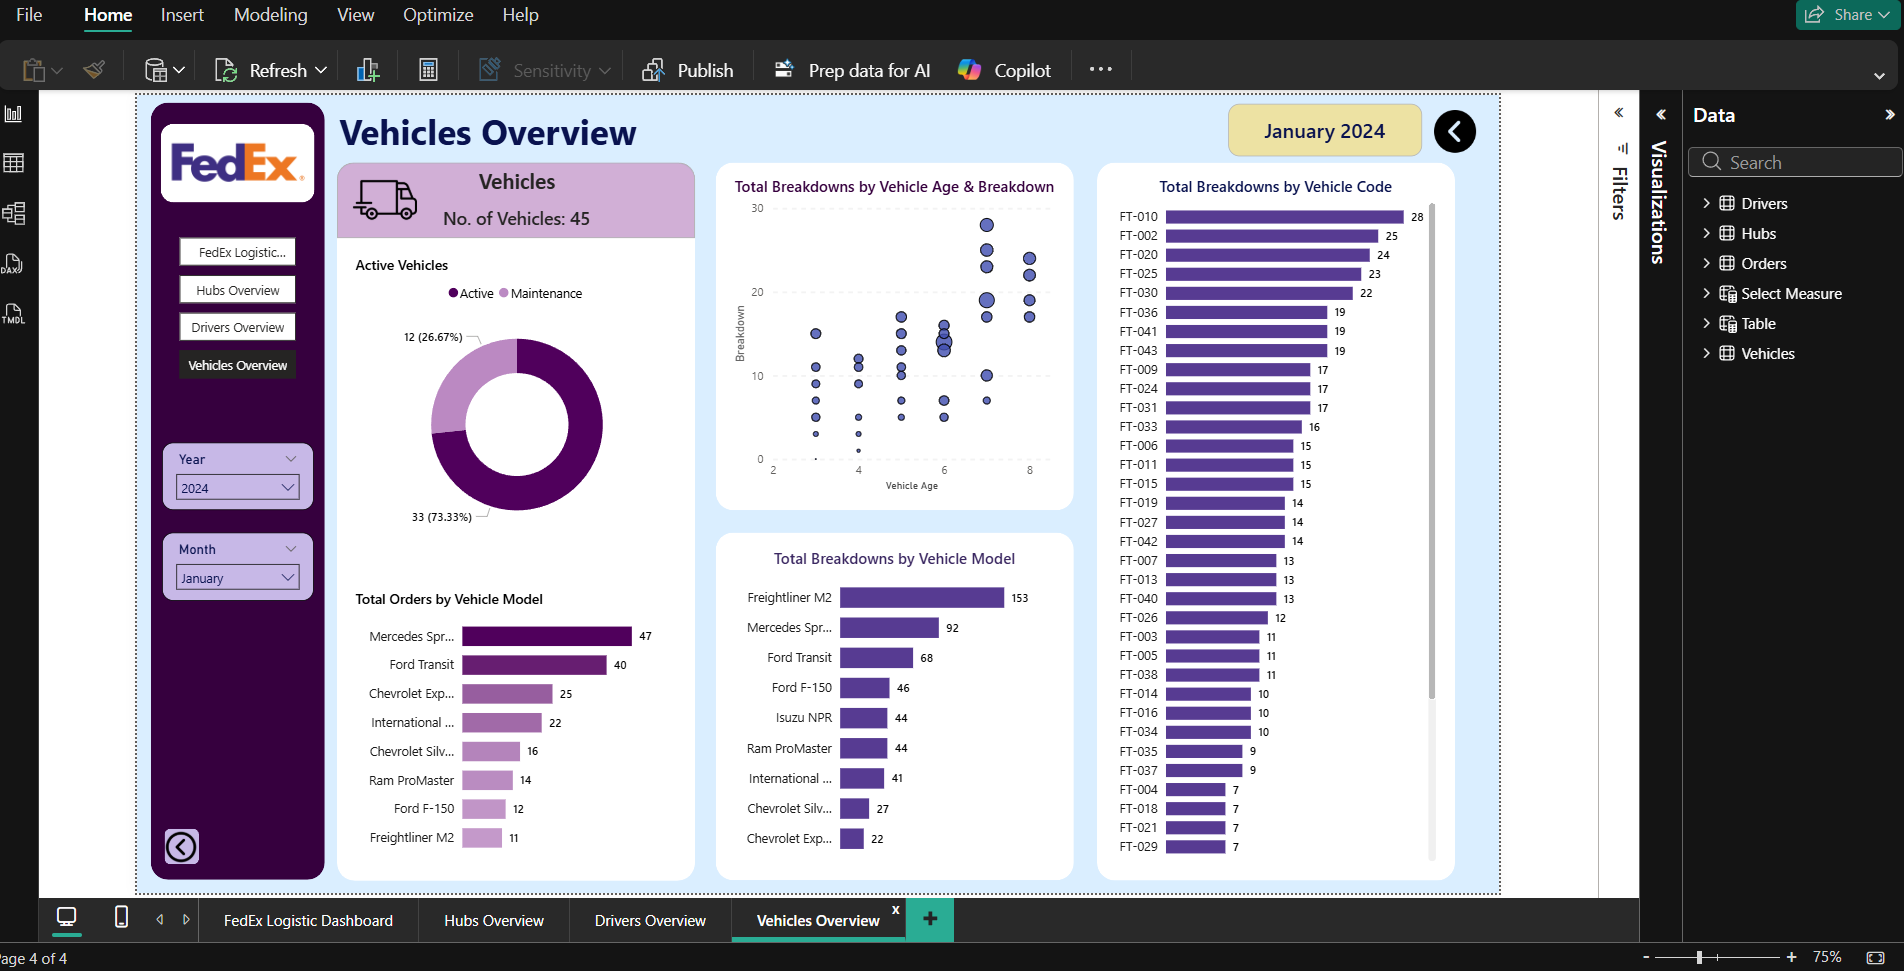

What the dashboard file says about the page in this screenshot:
{"tool":"powerbi","page":{"name":"Vehicles Overview","canvas":[1450,850],"ordinal":3},"visuals":[{"type":"shape","box":[15,8.6,185.2,827.5],"z":0},{"type":"textbox","box":[209.8,8.6,535.3,65.3],"z":1000},{"type":"slicer","fields":{"Values":["Table.Year"]},"box":[26.9,370.3,161.2,71.7],"z":2000},{"type":"slicer","fields":{"Values":["Table.Month"]},"box":[26.9,465.8,161.2,72.7],"z":3000},{"type":"shape","box":[213,72.7,381.2,763.4],"z":4000},{"type":"shape","box":[213,71.7,381.2,80.6],"z":5000},{"type":"textbox","box":[346.8,72.5,114.5,45.6],"z":6000},{"type":"cardVisual","fields":{"Data":["Vehicles.No. of Vehicles"]},"box":[274.8,111.5,257.9,35.5],"z":7000},{"type":"donutChart","title":"Active Vehicles","fields":{"Category":["Vehicles.Vehicle Status"],"Y":["CountNonNull(Vehicles.Vehicle ID)"]},"box":[226.9,170.2,354.3,311.5],"z":8000},{"type":"barChart","fields":{"Category":["Vehicles.Vehicle Model"],"Y":["Orders.Total Orders"]},"box":[226.9,525.5,354.3,293.6],"z":9000},{"type":"shape","box":[25.3,30.6,163.7,83.8],"z":10000},{"type":"cardVisual","fields":{"Data":["Orders.Year Month Title"]},"box":[1161.5,9,206,55.7],"z":11000},{"type":"image","box":[29.3,34.6,157,75.8],"z":12000},{"type":"image","box":[1367.9,16,70.5,45.2],"z":13000},{"type":"shape","box":[28.9,781.3,36.8,37.8],"z":14000},{"type":"image","box":[29.9,779.3,34.8,41.8],"z":15000},{"type":"shape","box":[616.1,71.7,381.2,370.3],"z":16000},{"type":"shape","box":[1022.2,71.7,381.2,764.4],"z":17000},{"type":"shape","box":[616.1,465.8,381.2,370.3],"z":18000},{"type":"scatterChart","title":"Total Breakdowns by Vehicle Age & Breakdown","fields":{"X":["Vehicles.Vehicle Age"],"Y":["Vehicles.Breakdown"],"Size":["Sum(Vehicles.Breakdown)1"]},"box":[631,85.6,351.3,342.4],"z":19000},{"type":"barChart","title":"Total Breakdowns by Vehicle Code","fields":{"Y":["Sum(Vehicles.Breakdown)"],"Category":["Vehicles.Vehicle Code"]},"box":[1037.1,85.6,351.3,735.5],"z":20000},{"type":"barChart","title":"Total Breakdowns by Vehicle Model","fields":{"Y":["Sum(Vehicles.Breakdown)"],"Category":["Vehicles.Vehicle Model"]},"box":[631,481.7,351.3,339.4],"z":21000},{"type":"pageNavigator","box":[44.8,152.3,124.4,152.3],"z":22000},{"type":"image","box":[227.5,74.5,73.2,74.5],"z":23000}]}

Visuals, with their boxes on the page's 1450x850 design canvas (x1, y1, x2, y2). These are canvas units, not pixel positions in the 1904x971 screenshot, which may show the page scaled, cropped or inside an application window:
shape: {"left": 15, "top": 9, "right": 200, "bottom": 836}
textbox: {"left": 210, "top": 9, "right": 745, "bottom": 74}
slicer - Table.Year: {"left": 27, "top": 370, "right": 188, "bottom": 442}
slicer - Table.Month: {"left": 27, "top": 466, "right": 188, "bottom": 538}
shape: {"left": 213, "top": 73, "right": 594, "bottom": 836}
shape: {"left": 213, "top": 72, "right": 594, "bottom": 152}
textbox: {"left": 347, "top": 72, "right": 461, "bottom": 118}
cardVisual - Vehicles.No. of Vehicles: {"left": 275, "top": 112, "right": 533, "bottom": 147}
"Active Vehicles" donutChart: {"left": 227, "top": 170, "right": 581, "bottom": 482}
barChart - Vehicles.Vehicle Model x Orders.Total Orders: {"left": 227, "top": 526, "right": 581, "bottom": 819}
shape: {"left": 25, "top": 31, "right": 189, "bottom": 114}
cardVisual - Orders.Year Month Title: {"left": 1162, "top": 9, "right": 1368, "bottom": 65}
image: {"left": 29, "top": 35, "right": 186, "bottom": 110}
image: {"left": 1368, "top": 16, "right": 1438, "bottom": 61}
shape: {"left": 29, "top": 781, "right": 66, "bottom": 819}
image: {"left": 30, "top": 779, "right": 65, "bottom": 821}
shape: {"left": 616, "top": 72, "right": 997, "bottom": 442}
shape: {"left": 1022, "top": 72, "right": 1403, "bottom": 836}
shape: {"left": 616, "top": 466, "right": 997, "bottom": 836}
"Total Breakdowns by Vehicle Age & Breakdown" scatterChart: {"left": 631, "top": 86, "right": 982, "bottom": 428}
"Total Breakdowns by Vehicle Code" barChart: {"left": 1037, "top": 86, "right": 1388, "bottom": 821}
"Total Breakdowns by Vehicle Model" barChart: {"left": 631, "top": 482, "right": 982, "bottom": 821}
pageNavigator: {"left": 45, "top": 152, "right": 169, "bottom": 305}
image: {"left": 228, "top": 74, "right": 301, "bottom": 149}
